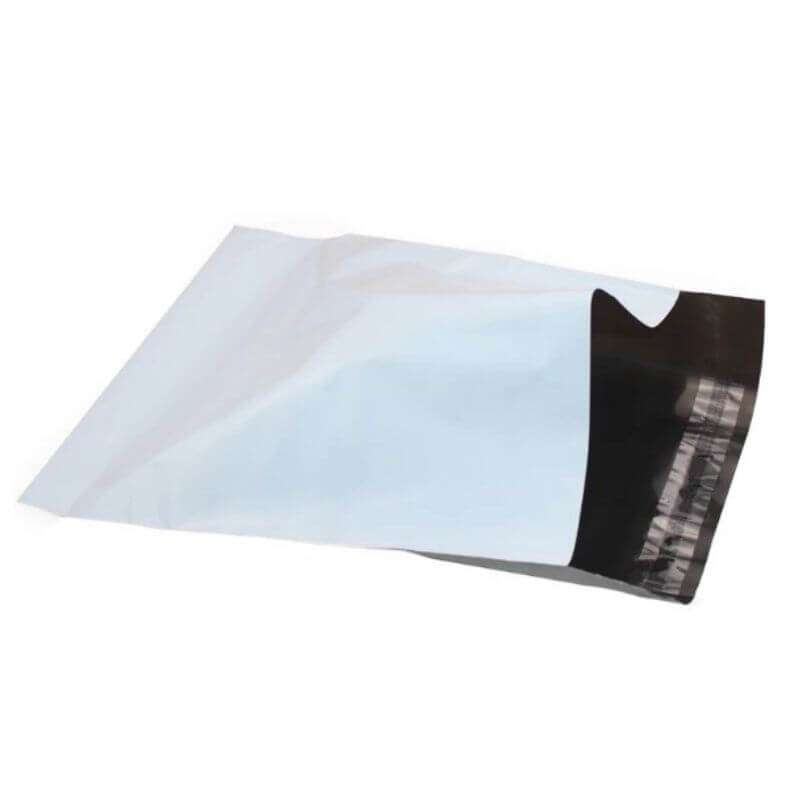塑料袋: (22, 230, 764, 604)
